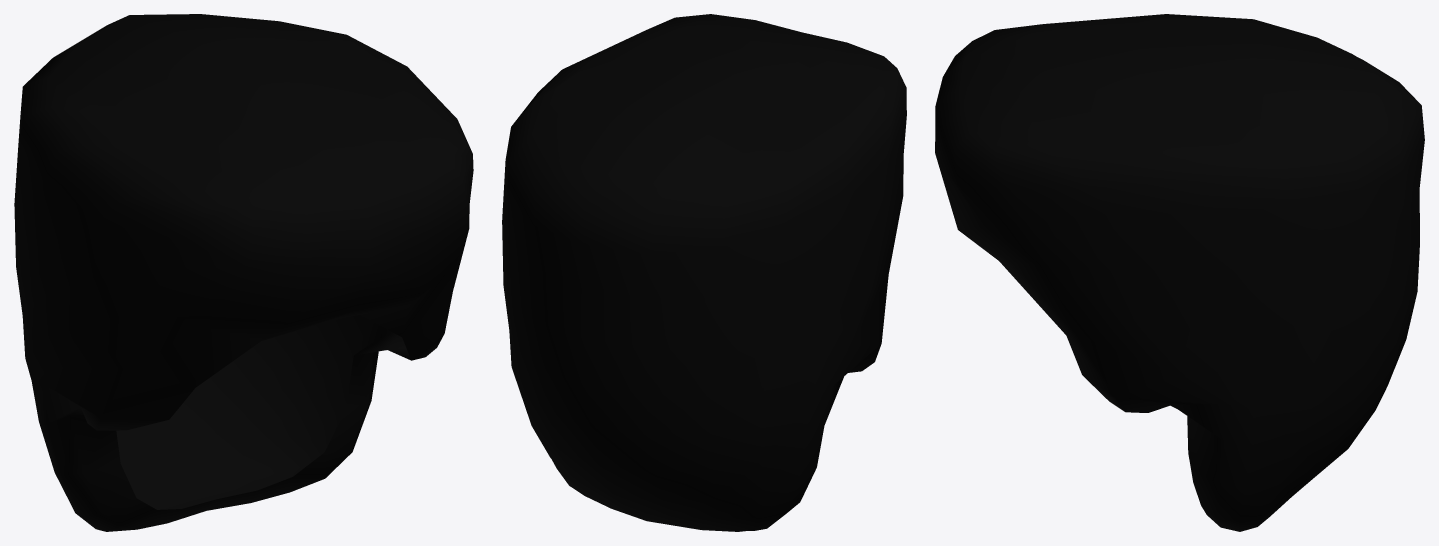
File: NPC_BlackHair3.gltf
3 renders of one model, left to right at view 1: azimuth 30°, elevation 25°; view 2: azimuth 150°, elevation 25°; view 3: azimuth 270°, elevation 25°, orthographic. The views are drawn at different scales.
Visible parts, largest first — view 1: NPC_BlackHair.003; view 2: NPC_BlackHair.003; view 3: NPC_BlackHair.003.
Part boxes in pixels (bbox=[...]): NPC_BlackHair.003: bbox=[14, 14, 473, 531]; NPC_BlackHair.003: bbox=[502, 14, 906, 531]; NPC_BlackHair.003: bbox=[935, 14, 1424, 531].
Bounding box in the file's own units: 0.517 × 0.6477 × 0.6599.
Materials: 1 (1 with a texture image).
